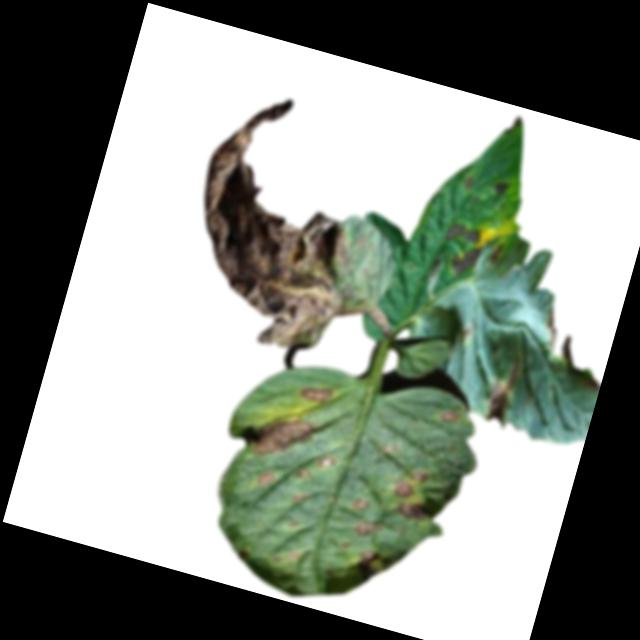Early_blight: (162, 77, 398, 360), (244, 407, 314, 463), (477, 349, 526, 426), (388, 460, 440, 521), (536, 301, 569, 357), (449, 242, 485, 282), (440, 219, 484, 248), (296, 379, 335, 406), (348, 514, 381, 540), (346, 492, 371, 514), (354, 546, 377, 569), (439, 408, 460, 427), (491, 176, 510, 197), (315, 452, 336, 471), (458, 172, 478, 191), (254, 468, 273, 487), (294, 466, 311, 480), (290, 488, 303, 501)
